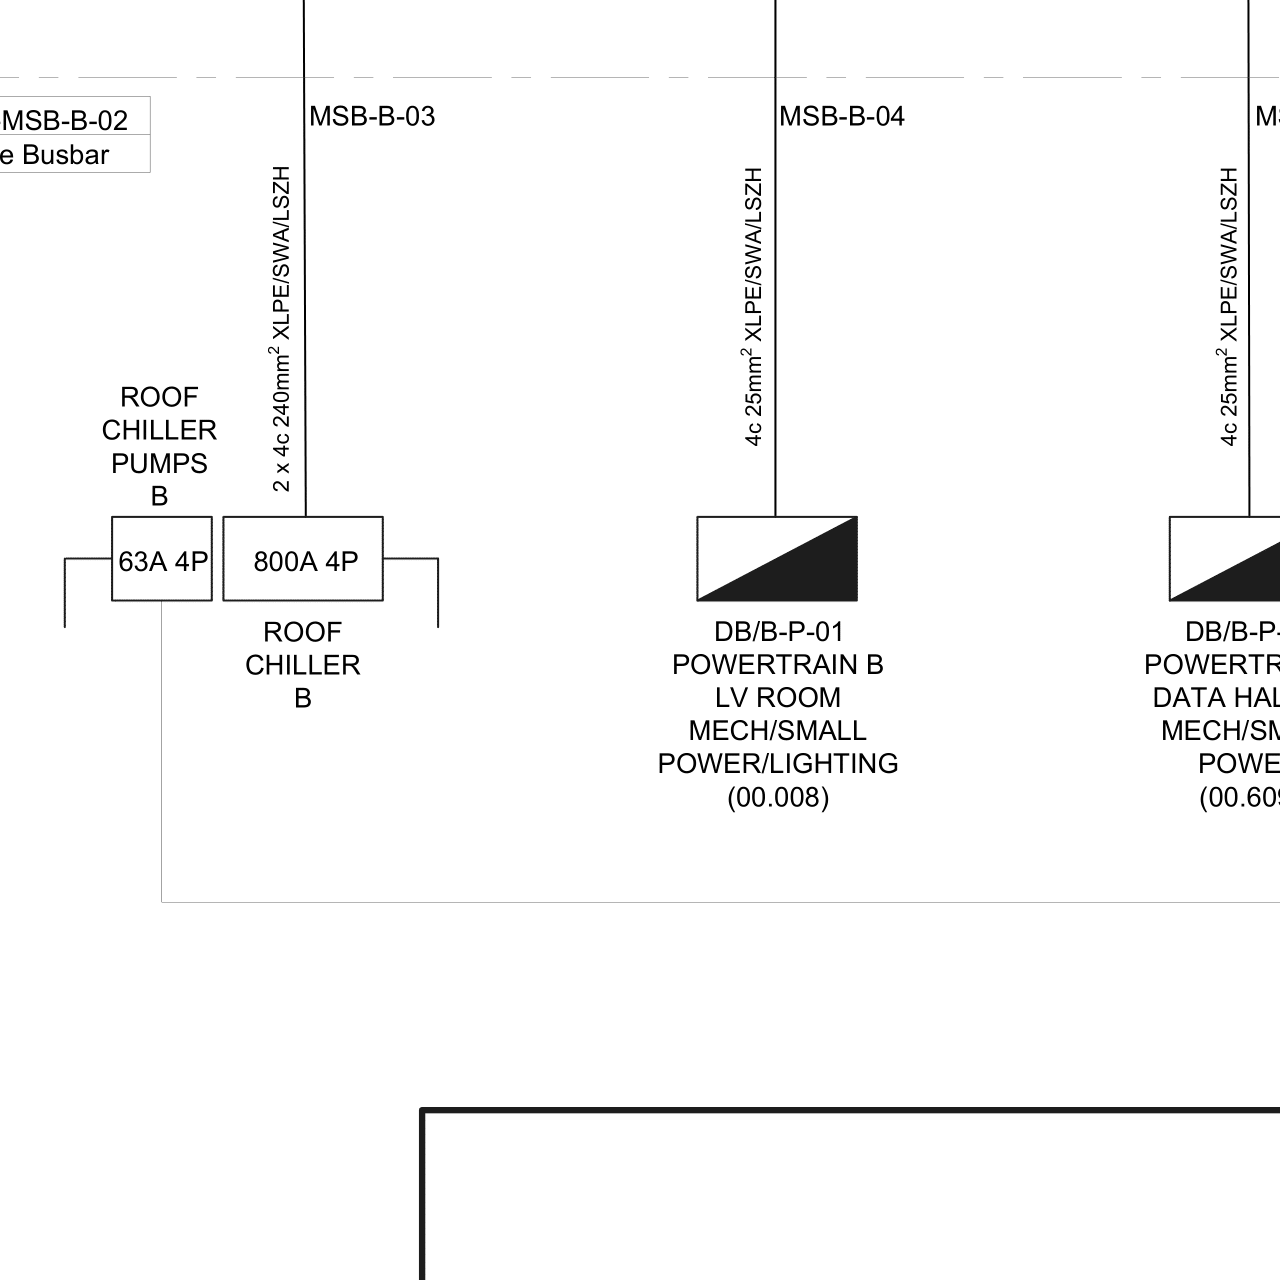Distribution Board: (683, 509, 873, 613)
